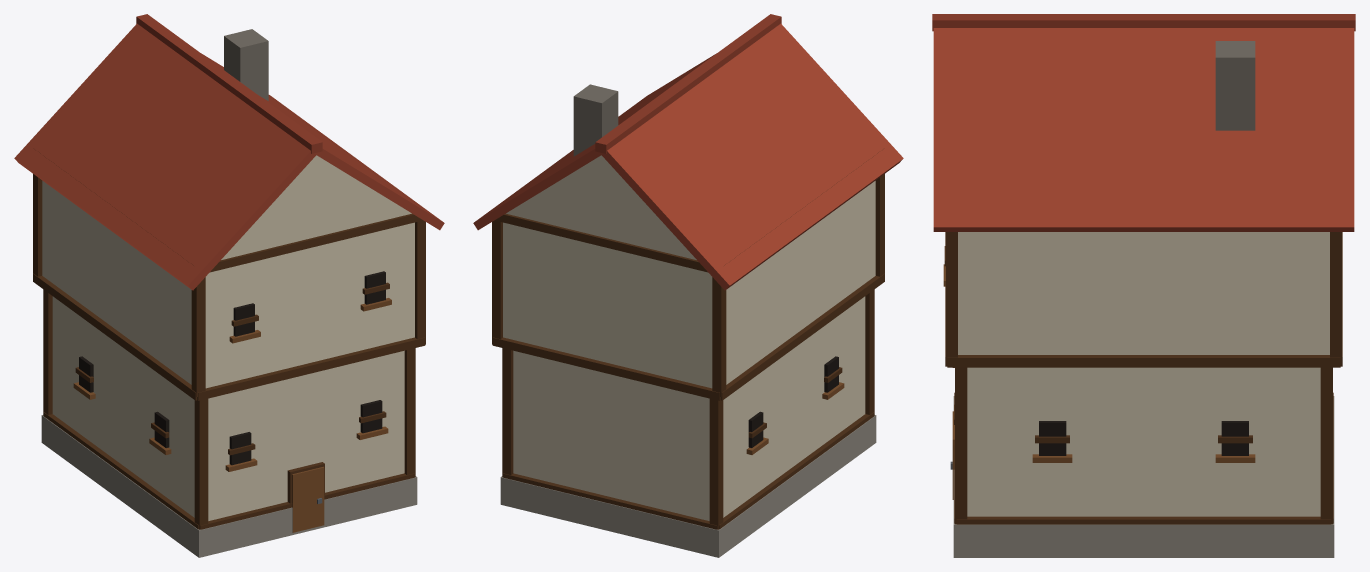
The model's file is house_large.glb.
The picture shows the model from 3 angles, left to right: view 1: azimuth 30°, elevation 25°; view 2: azimuth 150°, elevation 25°; view 3: azimuth 270°, elevation 25°; orthographic projection. The views are drawn at different scales.
Parts seen in each view (by area): view 1: house_large; view 2: house_large; view 3: house_large.
Part boxes in pixels (x1,y1,x2,y2): house_large: [14, 14, 444, 557]; house_large: [473, 14, 903, 557]; house_large: [932, 14, 1355, 557].
Size of the model in its own units: 2.35 by 3.45 by 2.78.
